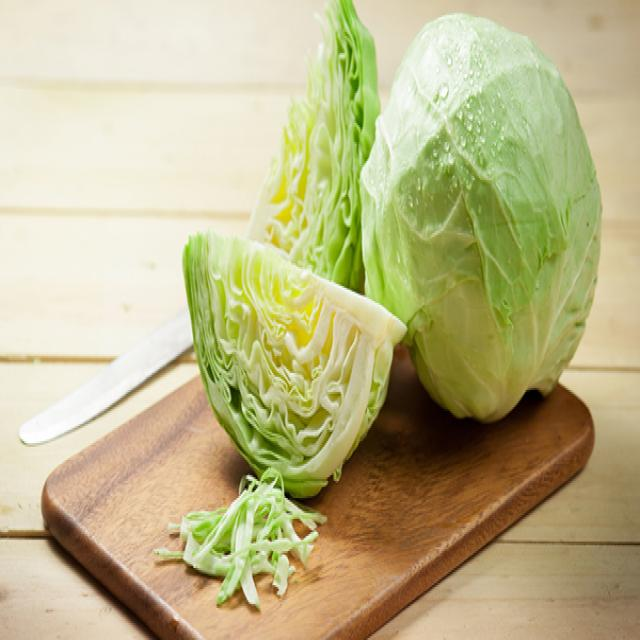cabbage: (352, 8, 605, 412), (172, 216, 400, 504)
